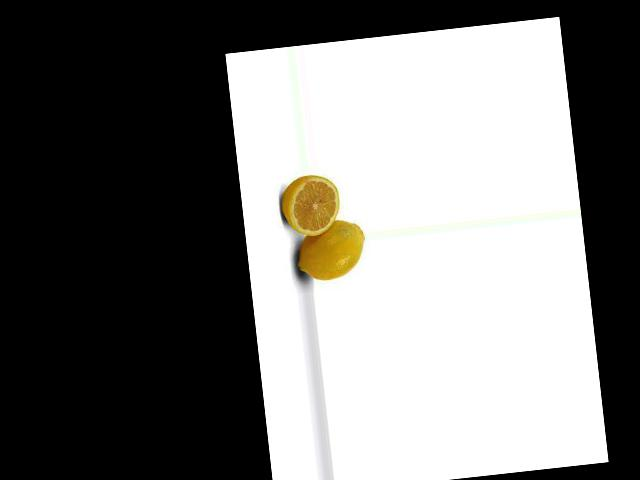lemon: (285, 212, 371, 286)
